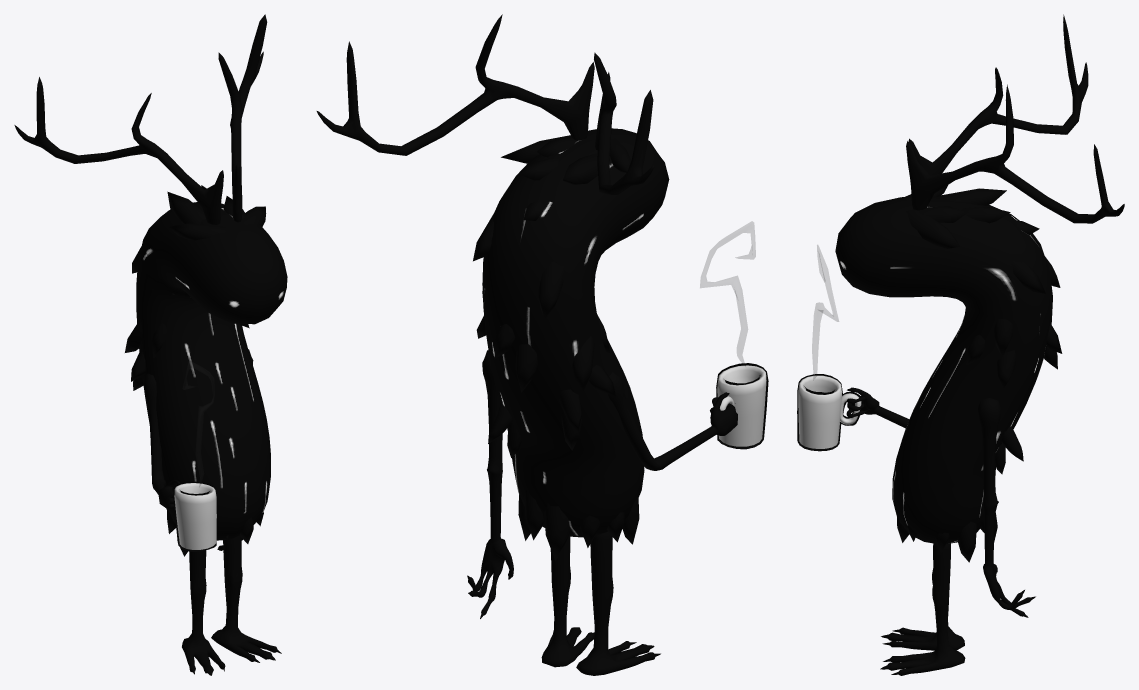
Rendered from spooky_thing.glb.
3 views of the same model, side by side, from view 1: azimuth 30°, elevation 25°; view 2: azimuth 150°, elevation 25°; view 3: azimuth 270°, elevation 25° (orthographic). The views are drawn at different scales.
Visible parts, largest first — view 1: Cube.000, Cylinder, Cube; view 2: Cube.000, Cylinder, Cube; view 3: Cube.000, Cylinder, Cube.
Part boxes in pixels (x1=…): Cube.000: x1=14, y1=14, x2=287, y2=675; Cylinder: x1=172, y1=481, x2=217, y2=551; Cube: x1=183, y1=361, x2=214, y2=486; Cube.000: x1=316, y1=14, x2=737, y2=675; Cylinder: x1=716, y1=363, x2=768, y2=449; Cube: x1=700, y1=221, x2=755, y2=365; Cube.000: x1=835, y1=14, x2=1124, y2=675; Cylinder: x1=797, y1=374, x2=863, y2=451; Cube: x1=812, y1=245, x2=838, y2=380.
Bounding box in the file's own units: 5.79 × 11.68 × 5.89.
Materials: 4 (1 with a texture image).
